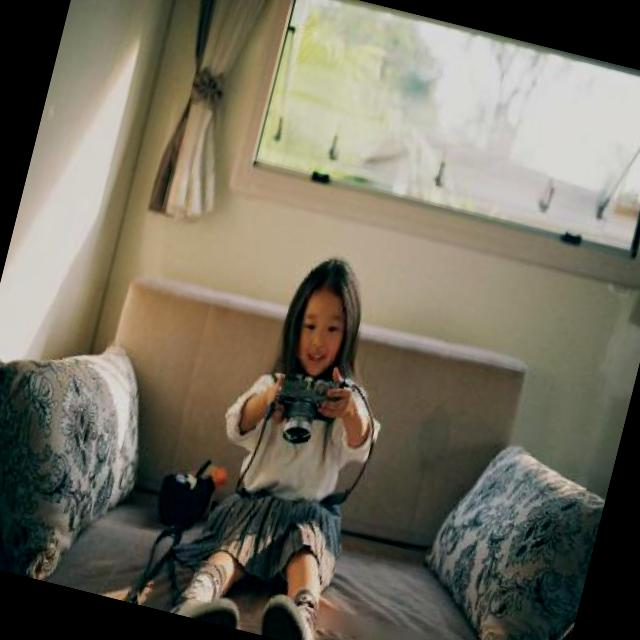Person: (174, 223, 429, 640)
